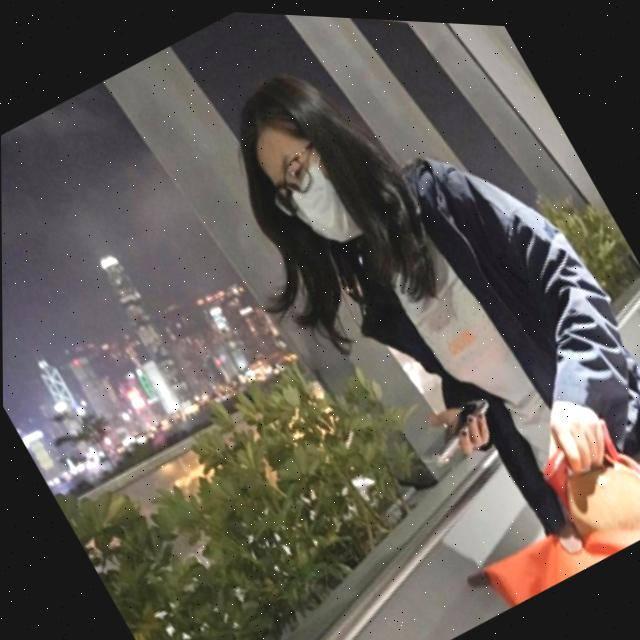Mask: (260, 118, 376, 257)
